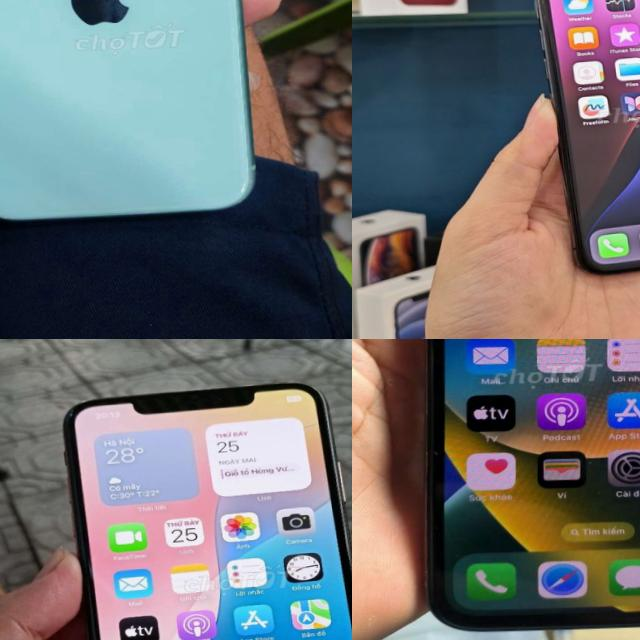gen_11: (0, 0, 253, 219)
gen_x_xs: (25, 375, 352, 640), (402, 339, 640, 640), (510, 0, 640, 291)
